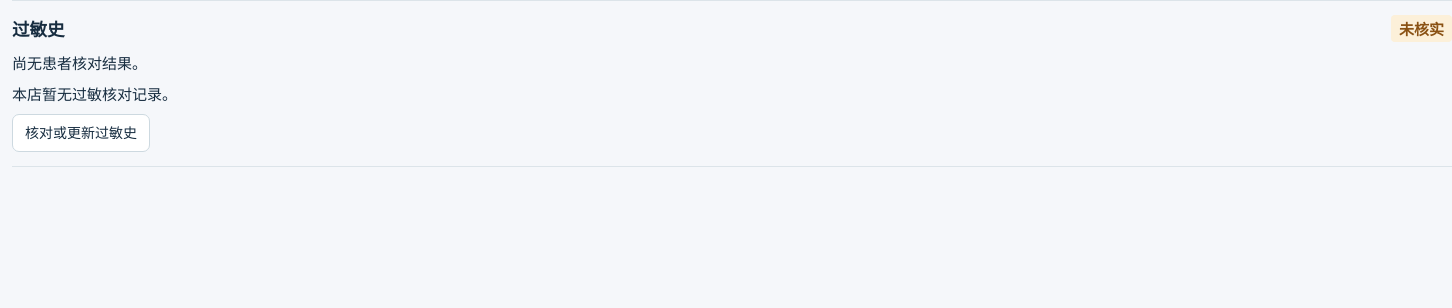
Test: a blank chart needs an explicit patient confirmation before saving no known allergies
Later steps or results of the test are not shown.
Expected: the text "未核实" is shown, [1391,15,1451,42]
Click the button "核对或更新过敏史". click: (81, 133)
box: [12,114,150,152]
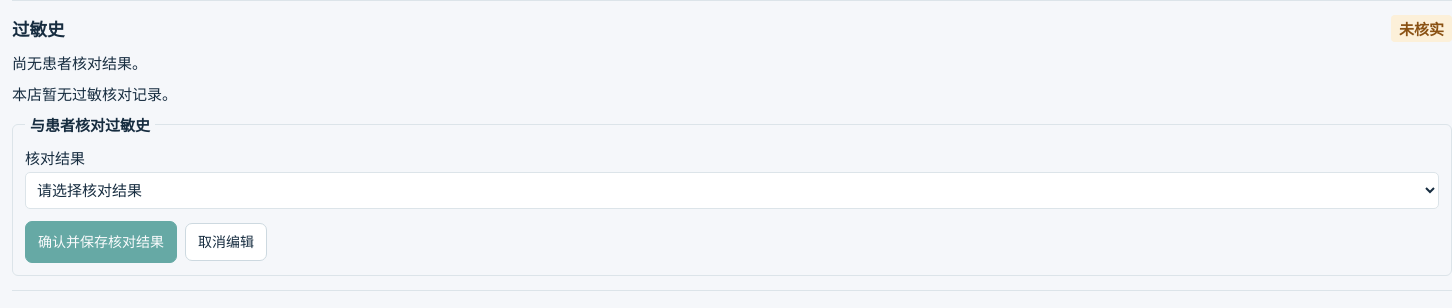
Expected: the button "确认并保存核对结果" is disabled, [25,221,177,263]
